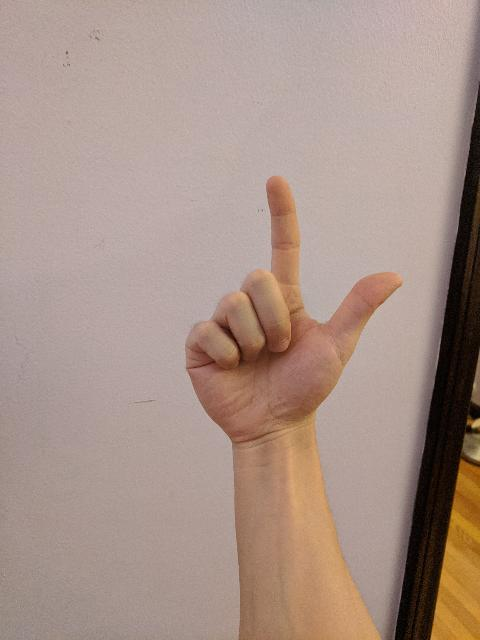L: (181, 170, 408, 448)
